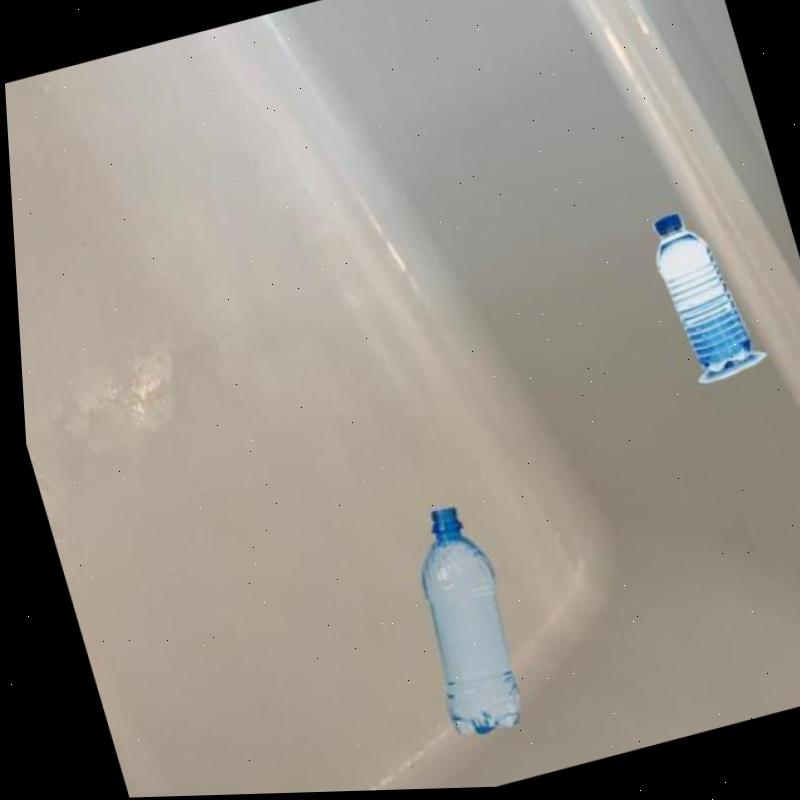botella: (387, 501, 527, 740), (639, 207, 751, 382)
